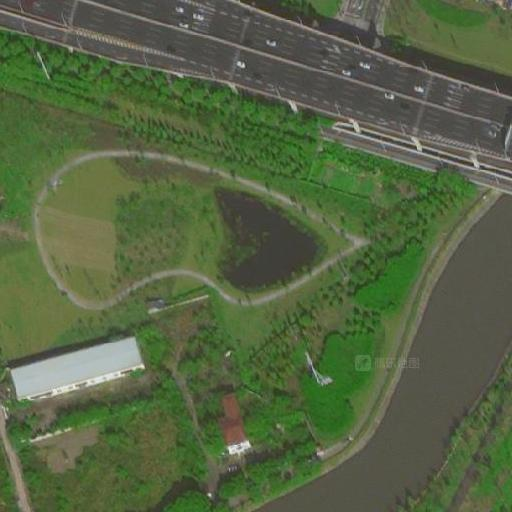building: (10, 336, 143, 400), (217, 393, 249, 446)
